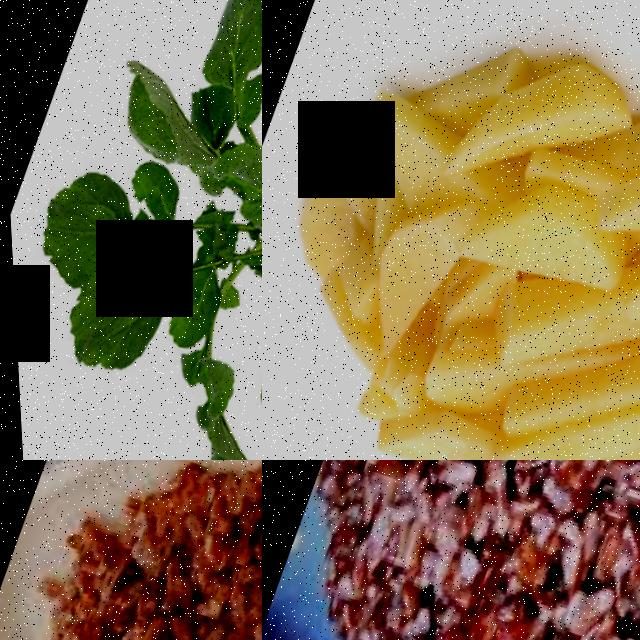potato: (427, 17, 640, 241), (440, 166, 635, 325), (334, 183, 478, 382), (464, 357, 640, 460), (354, 376, 501, 460), (586, 74, 640, 291)
red rice: (262, 460, 640, 640), (0, 460, 262, 640)
spinach: (192, 17, 262, 409)
